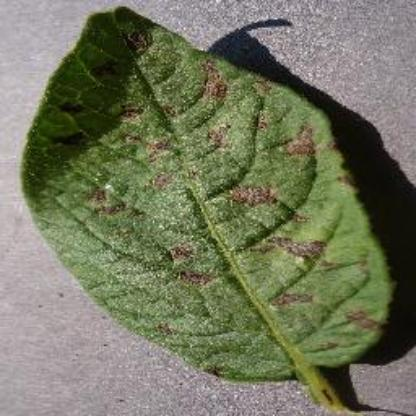Early-Blight: (19, 4, 395, 404)
